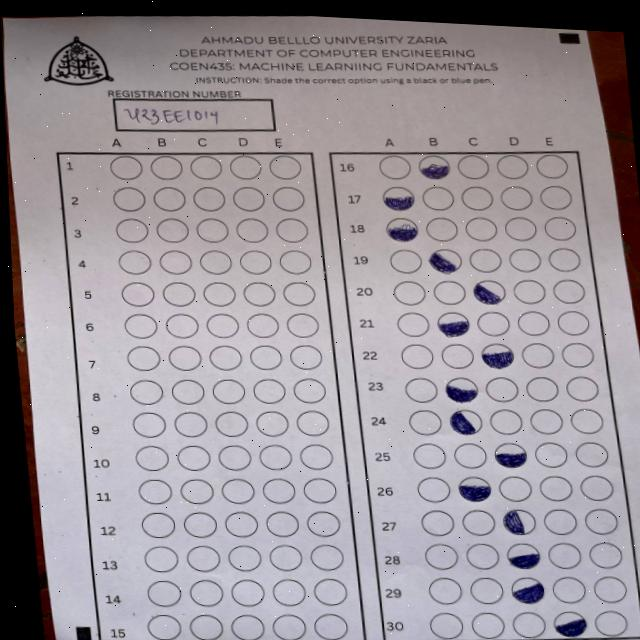bubble: (508, 574, 549, 606), (504, 540, 542, 571), (501, 506, 538, 537), (492, 440, 530, 470), (551, 609, 589, 639), (444, 375, 480, 405), (448, 407, 484, 437), (416, 153, 453, 182), (435, 310, 472, 339), (384, 215, 420, 244), (428, 247, 464, 276), (457, 475, 493, 504), (381, 184, 416, 213), (472, 278, 507, 307), (480, 342, 516, 370)
